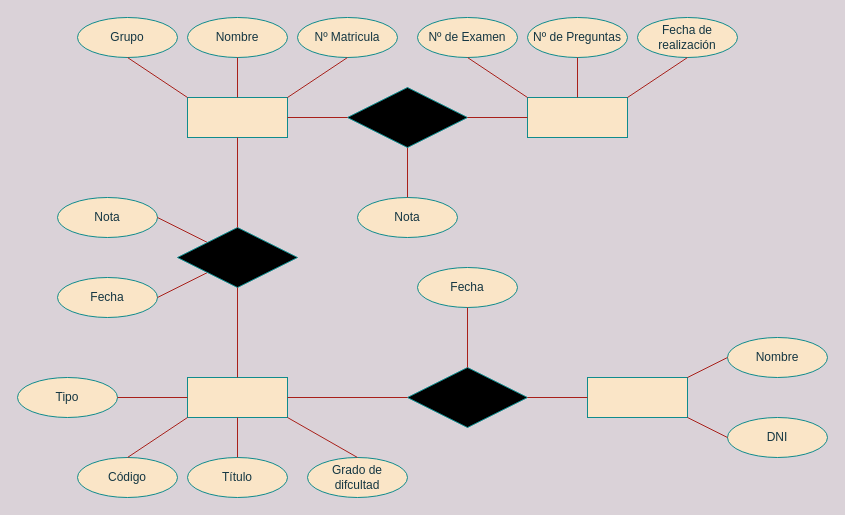
Image size: 845x515. Some labels were removed from this diagram. Each missing label, with the centre of its shape:
Alumnos: point 237,117
Diseña: point 467,397
Examenes escritos: point 577,117
Hace: point 407,117
Profesores: point 637,397
Prácticas: point 237,397
Realiza: point 237,257
